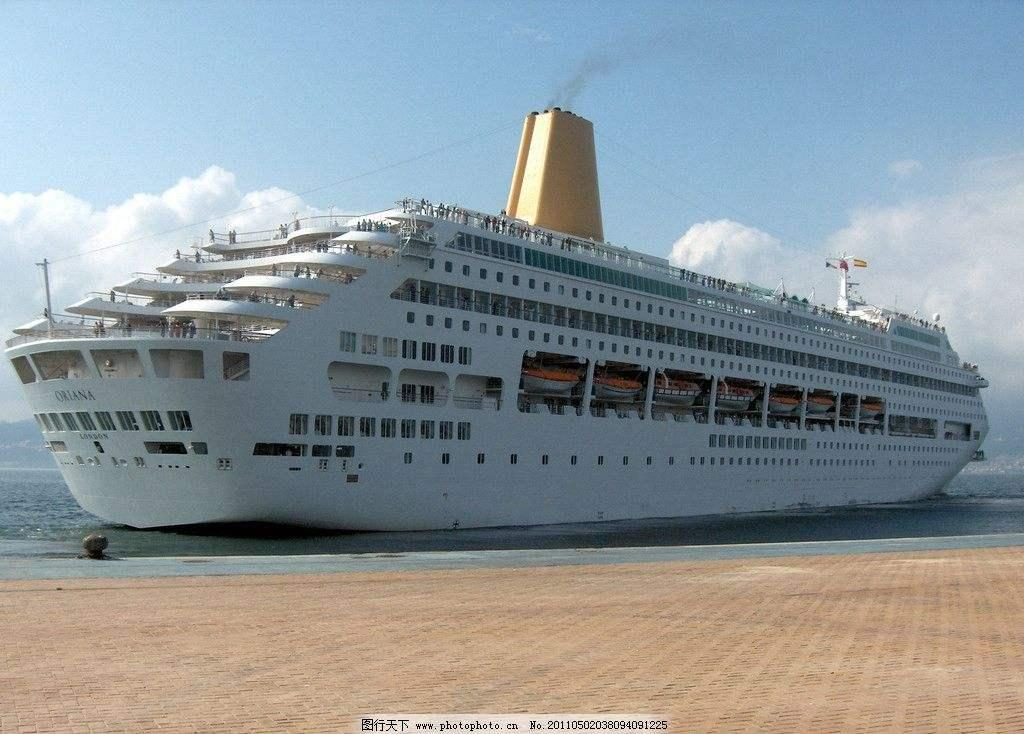youlun: (3, 141, 996, 520)
